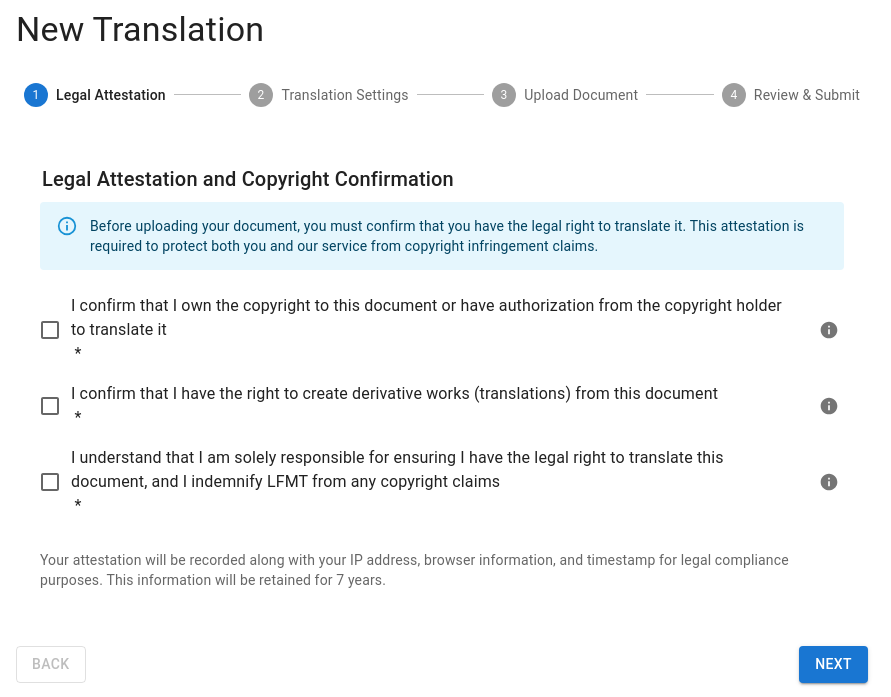
Test: TranslationUpload › Step 2: Translation Settings Validation › should allow going back to step 1
The width and height of the screenshot is (891, 697).
Click the checkbox labelled "I confirm that I own the copyright". click: [426, 306]
box: [29,294,798,366]
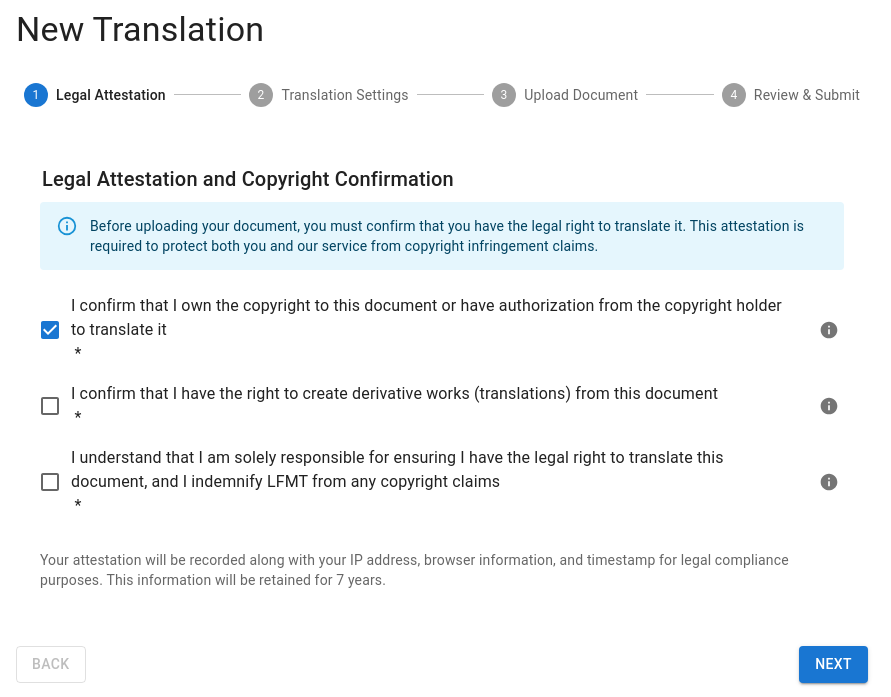
Click the checkbox labelled "I confirm that I have the right to create derivative works". click: [414, 406]
box: [29,382,798,430]
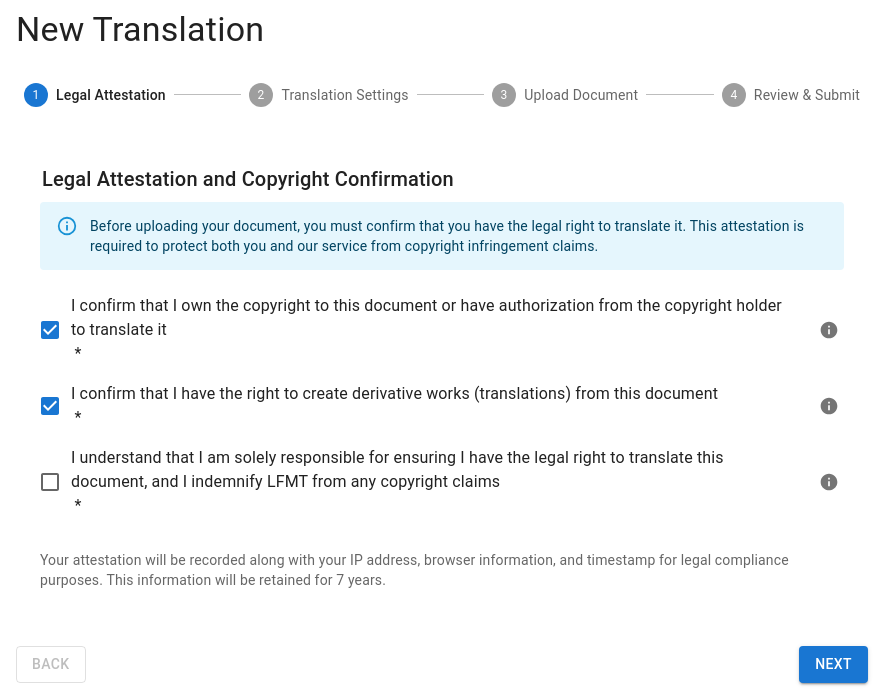
Click the checkbox labelled "I understand that I am solely responsible". click: [414, 482]
box: [29,446,798,518]
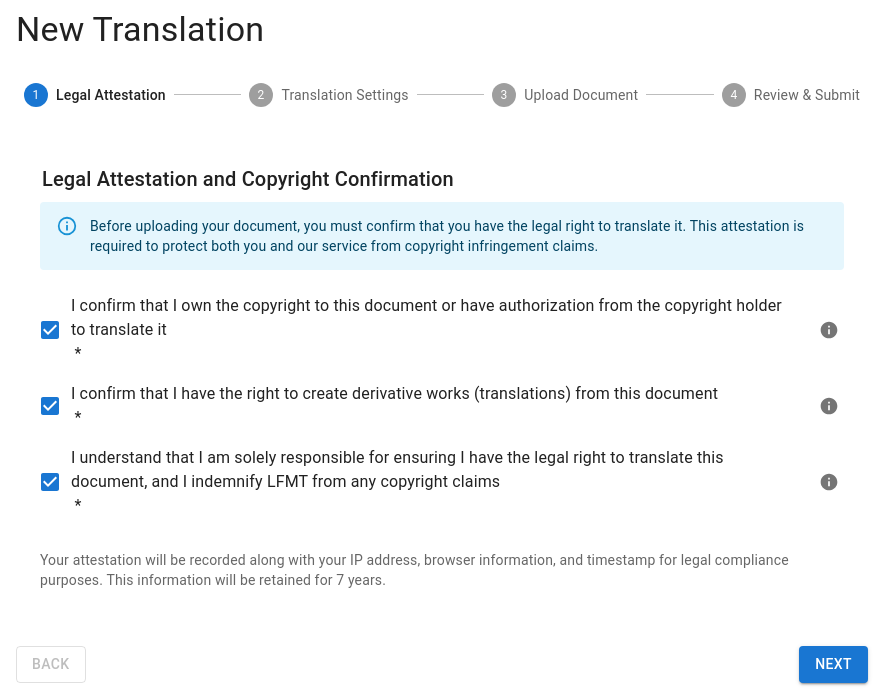
Click the button "Next". click: [834, 664]
box: [799,646,868,682]
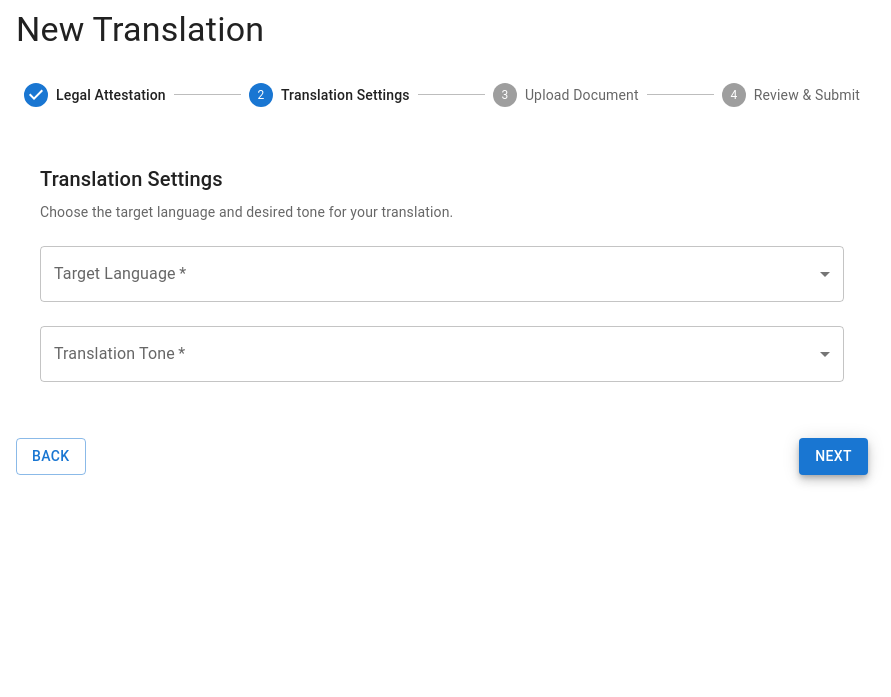
Now the 1st dropdown named "Target Language" is shown, box [40,246,844,302]
Click the button "Back". click: [51, 456]
box: [16,438,86,474]
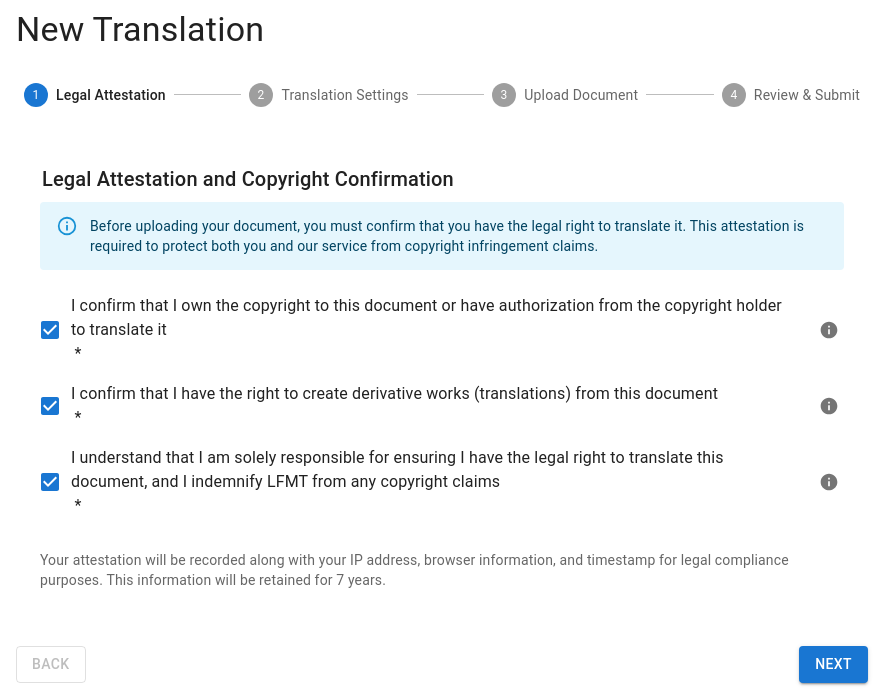
Now the checkbox labelled "I confirm that I own the copyright" is shown, box [29,294,798,366]
